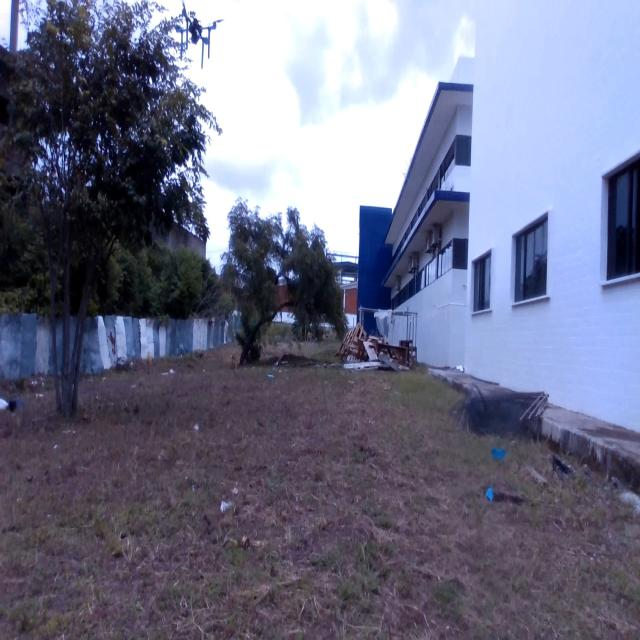-uav-: (169, 6, 224, 62)
